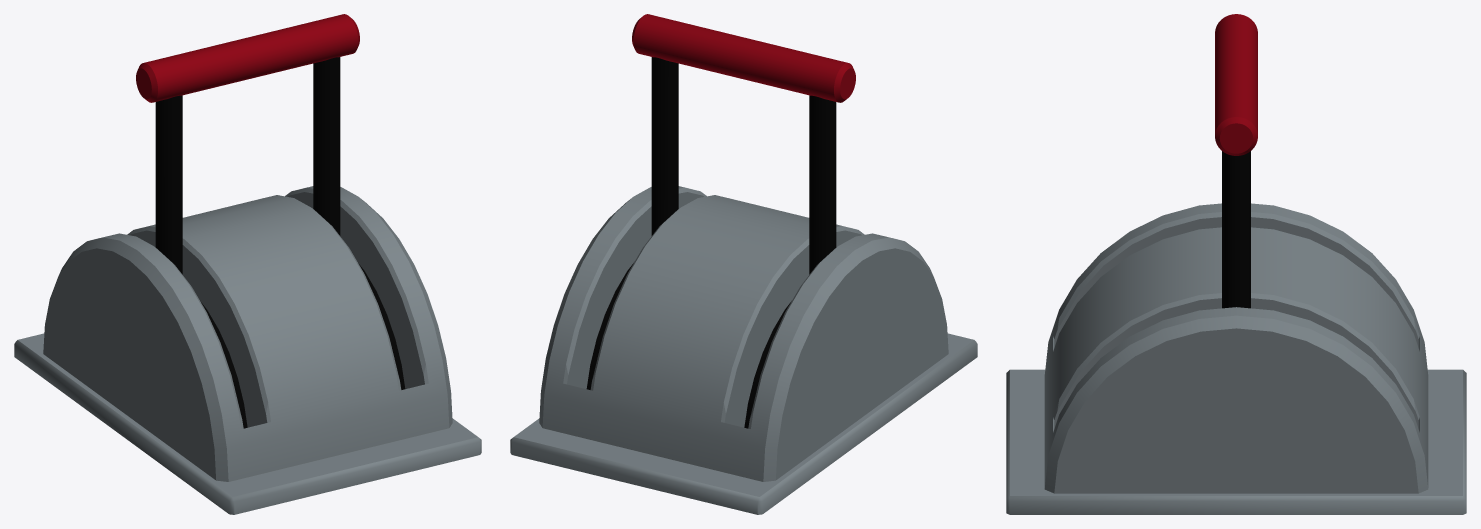
The model's file is Lever.fbx.
The picture shows the model from 3 angles, left to right: view 1: azimuth 30°, elevation 25°; view 2: azimuth 150°, elevation 25°; view 3: azimuth 270°, elevation 25°; orthographic projection. The views are drawn at different scales.
Parts seen in each view (by area): view 1: 円柱.003, 円柱, 立方体.003, 円柱.004; view 2: 円柱.003, 円柱, 立方体.003, 円柱.004; view 3: 円柱.003, 立方体.003, 円柱.
Boxes of the visible parts, <box> form: 円柱.003: <box>43,186,452,481</box>; 円柱: <box>136,14,359,274</box>; 立方体.003: <box>14,333,481,514</box>; 円柱.004: <box>200,263,405,428</box>; 円柱.003: <box>539,186,948,481</box>; 円柱: <box>632,14,855,274</box>; 立方体.003: <box>510,333,977,514</box>; 円柱.004: <box>586,263,791,428</box>; 円柱.003: <box>1044,203,1428,493</box>; 立方体.003: <box>1006,369,1466,514</box>; 円柱: <box>1215,14,1257,308</box>.
Bounding box in the file's own units: 0.16 × 0.2213 × 0.24.
